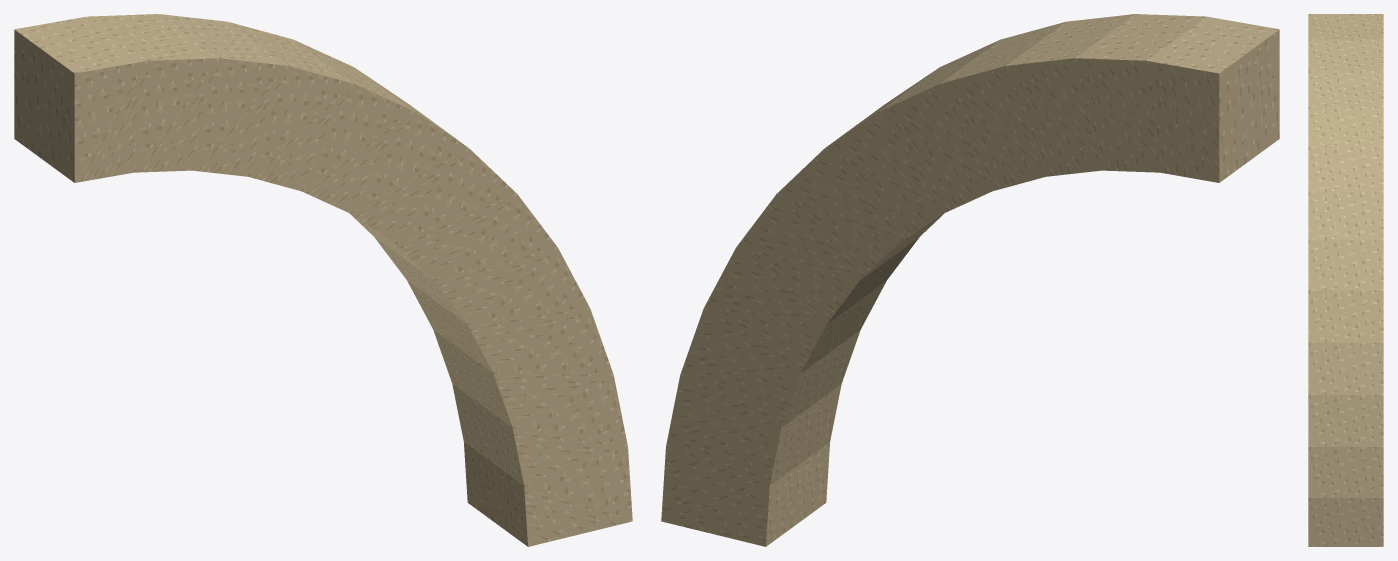
The model's file is mall_arch_right.gltf.
The picture shows the model from 3 angles, left to right: view 1: azimuth 30°, elevation 25°; view 2: azimuth 150°, elevation 25°; view 3: azimuth 270°, elevation 25°; orthographic projection. The views are drawn at different scales.
Parts seen in each view (by area): view 1: arch_stone_11, arch_stone_0, arch_stone_10, arch_stone_1, arch_stone_9, arch_stone_2, arch_stone_8, arch_stone_3, arch_stone_4, arch_stone_7, arch_stone_5, arch_stone_6; view 2: arch_stone_11, arch_stone_0, arch_stone_10, arch_stone_1, arch_stone_9, arch_stone_2, arch_stone_8, arch_stone_3, arch_stone_4, arch_stone_7, arch_stone_5, arch_stone_6; view 3: arch_stone_3, arch_stone_4, arch_stone_2, arch_stone_1, arch_stone_5, arch_stone_0, arch_stone_6, arch_stone_7, arch_stone_8, arch_stone_9, arch_stone_10, arch_stone_11.
Part boxes in pixels (bbox=[...]): arch_stone_11: bbox=[14, 16, 147, 182]; arch_stone_0: bbox=[464, 442, 632, 546]; arch_stone_10: bbox=[87, 14, 218, 172]; arch_stone_1: bbox=[452, 375, 627, 485]; arch_stone_9: bbox=[159, 14, 287, 176]; arch_stone_2: bbox=[433, 308, 613, 427]; arch_stone_8: bbox=[228, 22, 353, 190]; arch_stone_3: bbox=[407, 248, 589, 373]; arch_stone_4: bbox=[374, 194, 557, 324]; arch_stone_7: bbox=[294, 40, 413, 213]; arch_stone_5: bbox=[349, 148, 516, 280]; arch_stone_6: bbox=[351, 70, 468, 243]; arch_stone_11: bbox=[1146, 16, 1279, 182]; arch_stone_0: bbox=[661, 442, 829, 546]; arch_stone_10: bbox=[1075, 14, 1206, 172]; arch_stone_1: bbox=[666, 375, 841, 485]; arch_stone_9: bbox=[1006, 14, 1134, 176]; arch_stone_2: bbox=[680, 308, 860, 427]; arch_stone_8: bbox=[940, 22, 1065, 190]; arch_stone_3: bbox=[704, 248, 886, 373]; arch_stone_4: bbox=[736, 194, 919, 324]; arch_stone_7: bbox=[880, 40, 999, 213]; arch_stone_5: bbox=[777, 148, 944, 280]; arch_stone_6: bbox=[825, 70, 942, 243]; arch_stone_3: bbox=[1308, 342, 1383, 394]; arch_stone_4: bbox=[1308, 290, 1383, 342]; arch_stone_2: bbox=[1308, 395, 1383, 446]; arch_stone_1: bbox=[1308, 447, 1383, 497]; arch_stone_5: bbox=[1308, 240, 1383, 290]; arch_stone_0: bbox=[1308, 498, 1383, 546]; arch_stone_6: bbox=[1308, 192, 1383, 240]; arch_stone_7: bbox=[1308, 147, 1383, 192]; arch_stone_8: bbox=[1308, 106, 1383, 147]; arch_stone_9: bbox=[1308, 70, 1383, 106]; arch_stone_10: bbox=[1308, 39, 1383, 70]; arch_stone_11: bbox=[1308, 14, 1383, 39].
Size of the model in its own units: 2 by 2 by 0.375.
1 material, 1 textured.
